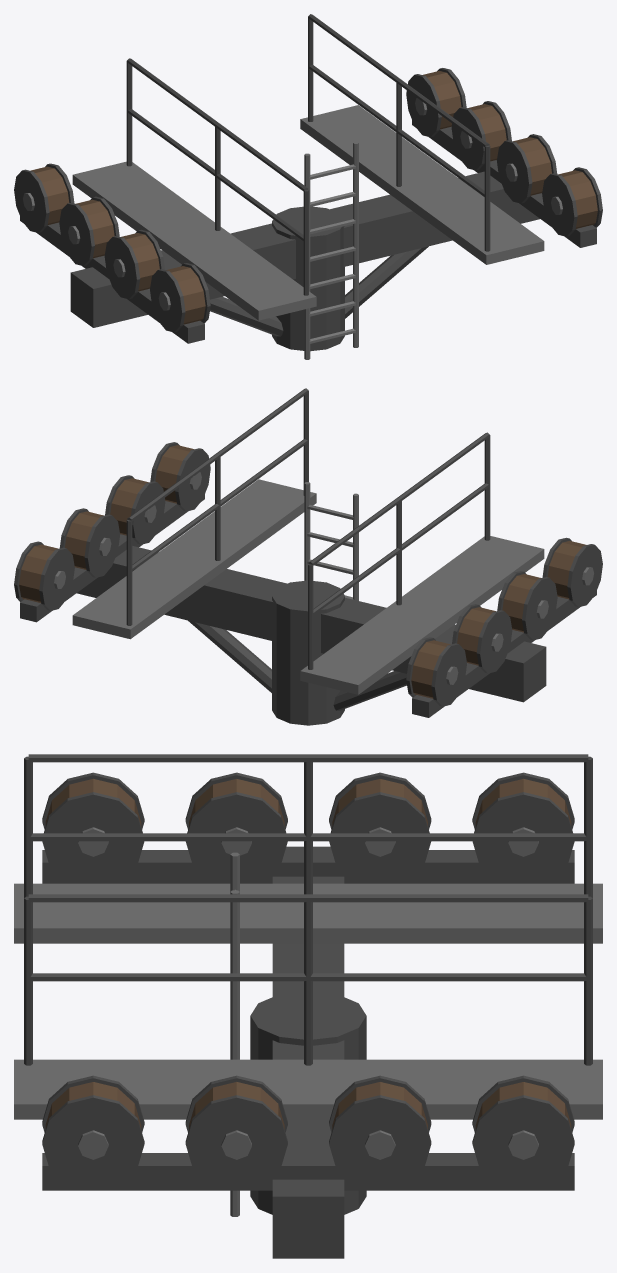
The model's file is pillar_cap.fbx.
The picture shows the model from 3 angles, top to bottom: view 1: azimuth 30°, elevation 25°; view 2: azimuth 150°, elevation 25°; view 3: azimuth 270°, elevation 25°; orthographic projection. The views are drawn at different scales.
Parts seen in each view (by area): view 1: p601/pillar_cap; view 2: p601/pillar_cap; view 3: p601/pillar_cap.
Boxes of the visible parts, box(x1,y1,x2,y2) form: p601/pillar_cap: box(14, 14, 602, 359); p601/pillar_cap: box(14, 388, 602, 725); p601/pillar_cap: box(14, 754, 602, 1258).
Size of the model in its own units: 4.85 by 2.41 by 3.45.
